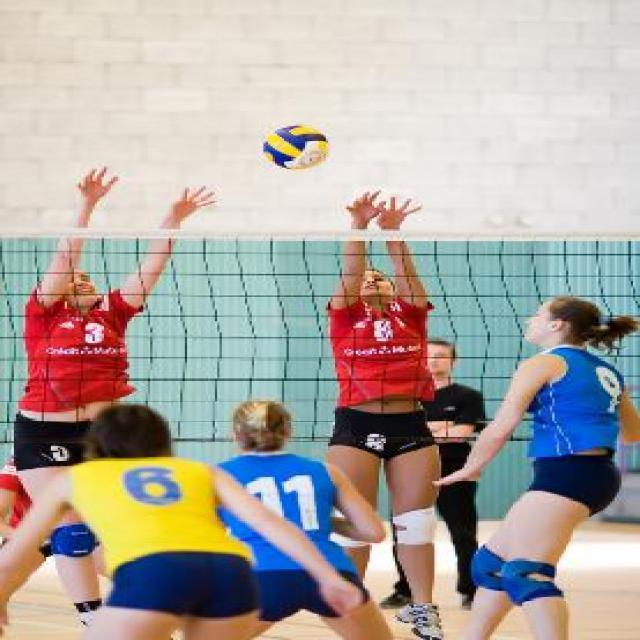volleyball: (262, 126, 330, 170)
